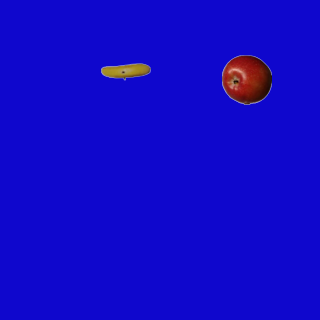Apple Braeburn: (221, 54, 271, 104)
Banana: (100, 46, 150, 96)
